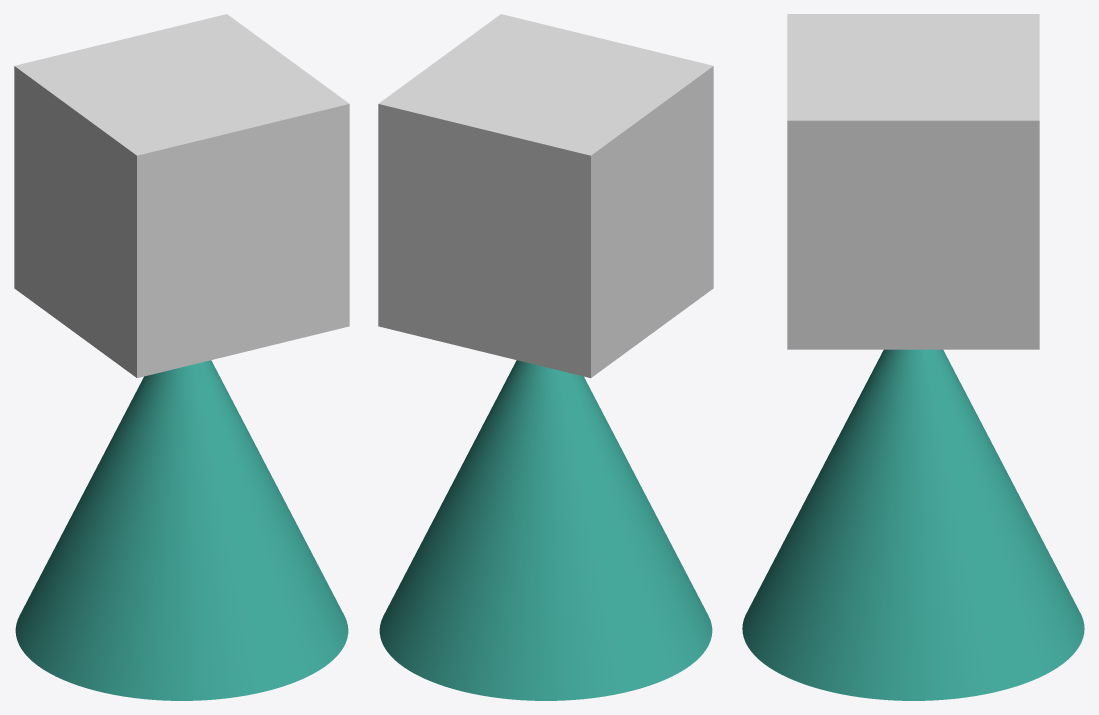
Rendered from cone_turquoise_vertical.glb.
3 renders of one model, left to right at view 1: azimuth 30°, elevation 25°; view 2: azimuth 150°, elevation 25°; view 3: azimuth 270°, elevation 25°, orthographic. The views are drawn at different scales.
Parts seen in each view (by area): view 1: placeholder, Cone; view 2: placeholder, Cone; view 3: placeholder, Cone.
Boxes of the visible parts, box(x1,y1,x2,y2) form: placeholder: box(14, 14, 349, 378); Cone: box(15, 360, 348, 700); placeholder: box(378, 14, 713, 378); Cone: box(379, 360, 712, 700); placeholder: box(787, 14, 1039, 349); Cone: box(742, 349, 1084, 700).
Size of the model in its own units: 1.34 by 2.43 by 1.34.
